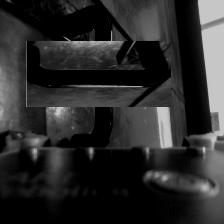Door Handle: (46, 22, 152, 127)
